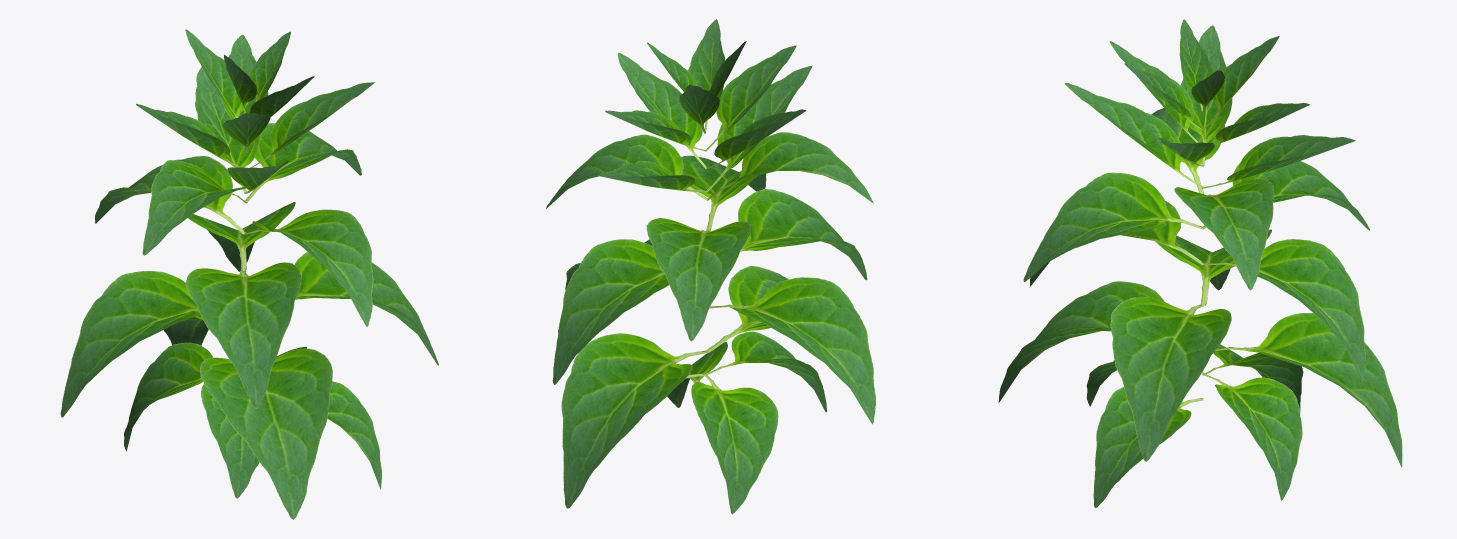
File: hojas.obj
The picture shows the model from 3 angles, left to right: view 1: azimuth 30°, elevation 25°; view 2: azimuth 150°, elevation 25°; view 3: azimuth 270°, elevation 25°; orthographic projection.
Parts seen in each view (by area): view 1: polySurface14 polySurface11; view 2: polySurface14 polySurface11; view 3: polySurface14 polySurface11.
Part boxes in pixels (x1=…): polySurface14 polySurface11: x1=60, y1=29, x2=438, y2=519; polySurface14 polySurface11: x1=546, y1=19, x2=875, y2=514; polySurface14 polySurface11: x1=998, y1=19, x2=1402, y2=508.
Bounding box in the file's own units: 5.15 × 5.41 × 5.42.
1 material, 1 textured.
